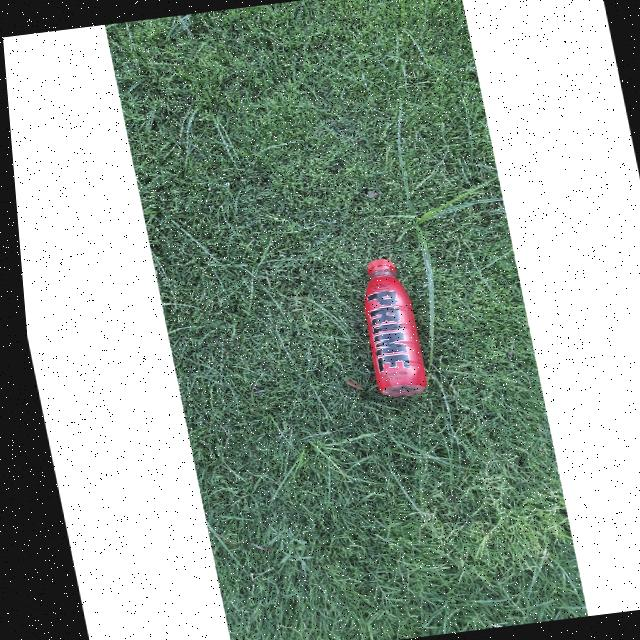Prime - Shitass: (345, 256, 423, 394)
